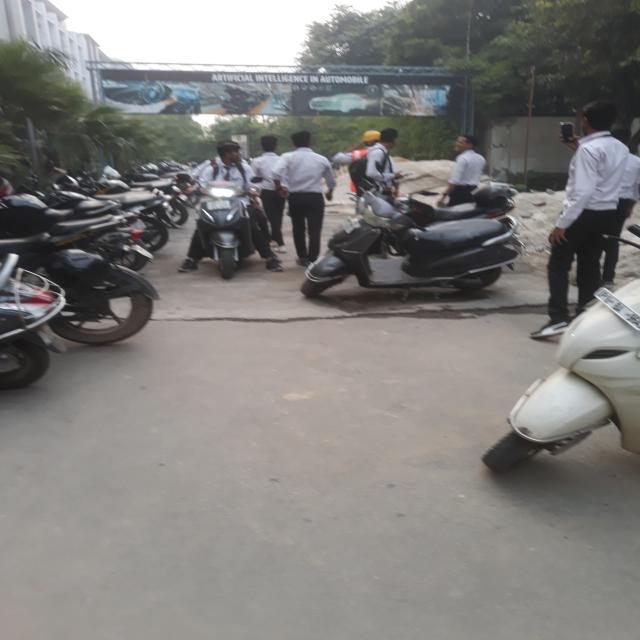unsafe: (544, 101, 618, 315), (284, 130, 332, 272), (254, 132, 288, 252), (198, 142, 257, 200), (358, 128, 401, 203), (446, 133, 487, 204)
